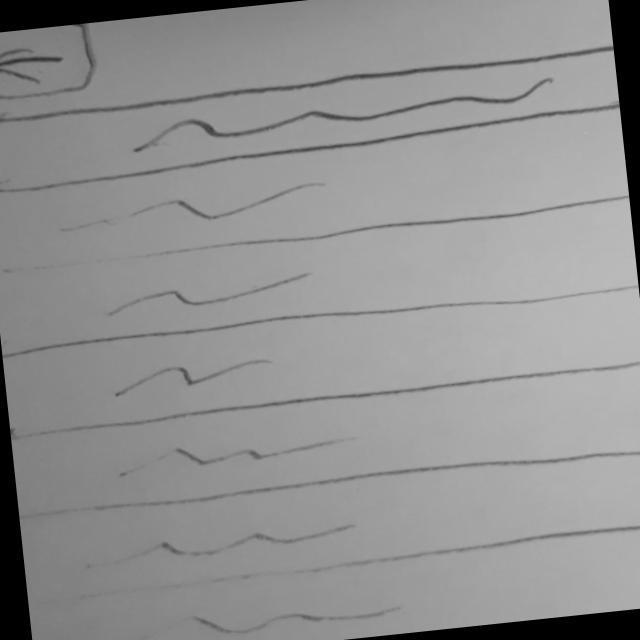container: (1, 194, 640, 358), (1, 111, 631, 274), (10, 359, 640, 522), (2, 280, 640, 438), (19, 442, 640, 599), (1, 47, 623, 201), (27, 523, 640, 640)
icon-button: (1, 23, 103, 108)
text: (113, 70, 588, 153), (40, 174, 344, 245), (78, 514, 367, 581), (102, 424, 379, 484), (105, 590, 409, 640), (90, 264, 327, 324), (97, 352, 289, 409)
